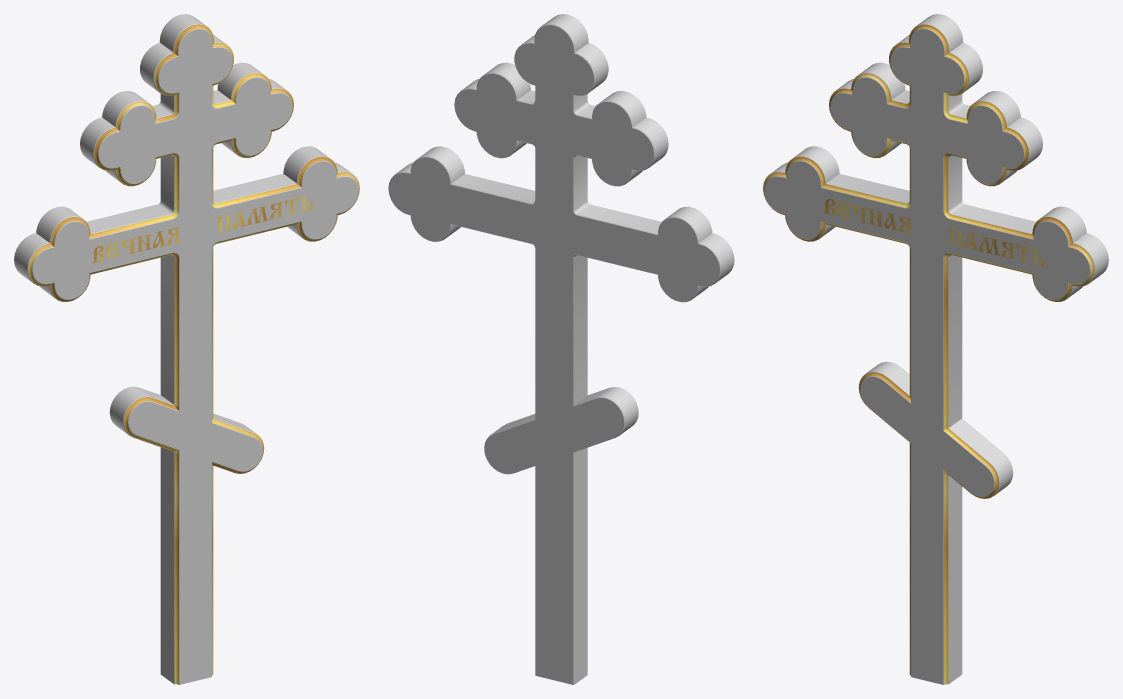
The model's file is cneaf5753cac_tkf.glb.
3 views of the same model, side by side, from view 1: azimuth 30°, elevation 25°; view 2: azimuth 150°, elevation 25°; view 3: azimuth 330°, elevation 25° (orthographic).
Parts seen in each view (by area): view 1: Krest-derevo-003, Krest-derevo-003_2_notexture; view 2: Krest-derevo-003; view 3: Krest-derevo-003, Krest-derevo-003_2_notexture.
Boxes of the visible parts, x1=… form: Krest-derevo-003: x1=14, y1=14, x2=359, y2=684; Krest-derevo-003_2_notexture: x1=28, y1=24, x2=359, y2=684; Krest-derevo-003: x1=388, y1=14, x2=734, y2=684; Krest-derevo-003: x1=763, y1=14, x2=1108, y2=684; Krest-derevo-003_2_notexture: x1=763, y1=24, x2=1094, y2=684.
Size of the model in its own units: 0.85 by 1.6 by 0.07.
1 material, 1 textured.
